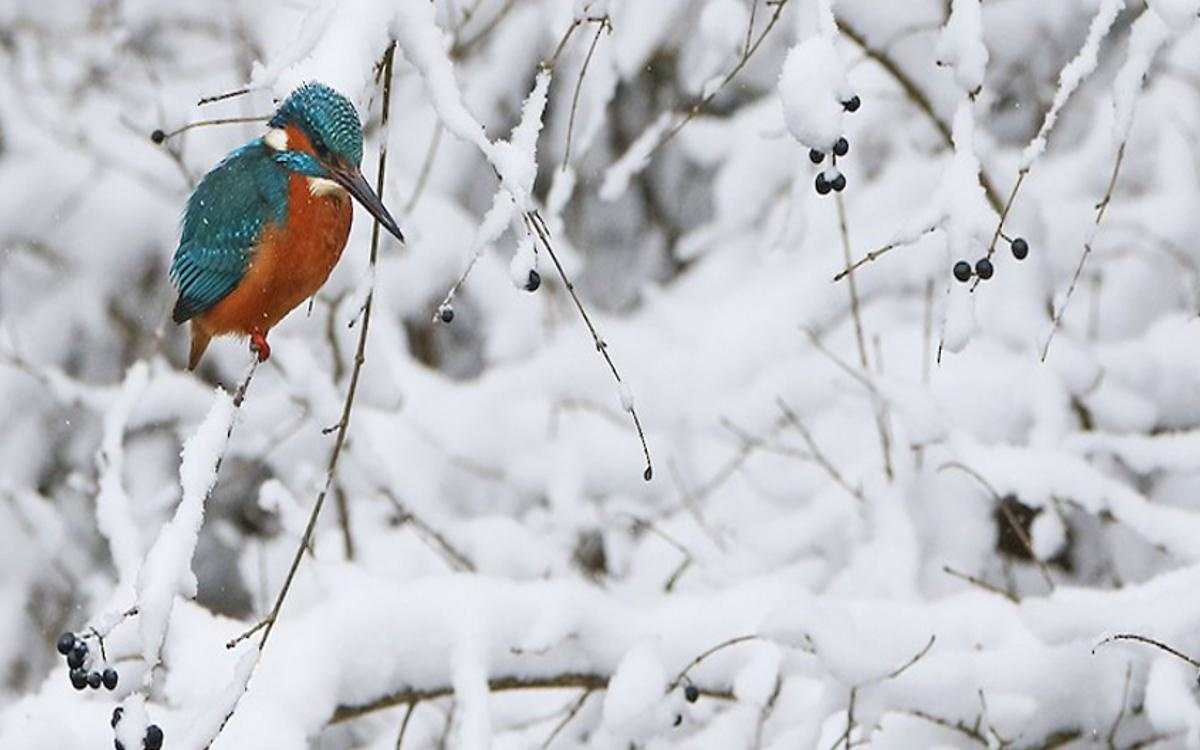kingfisher: (149, 61, 409, 396)
